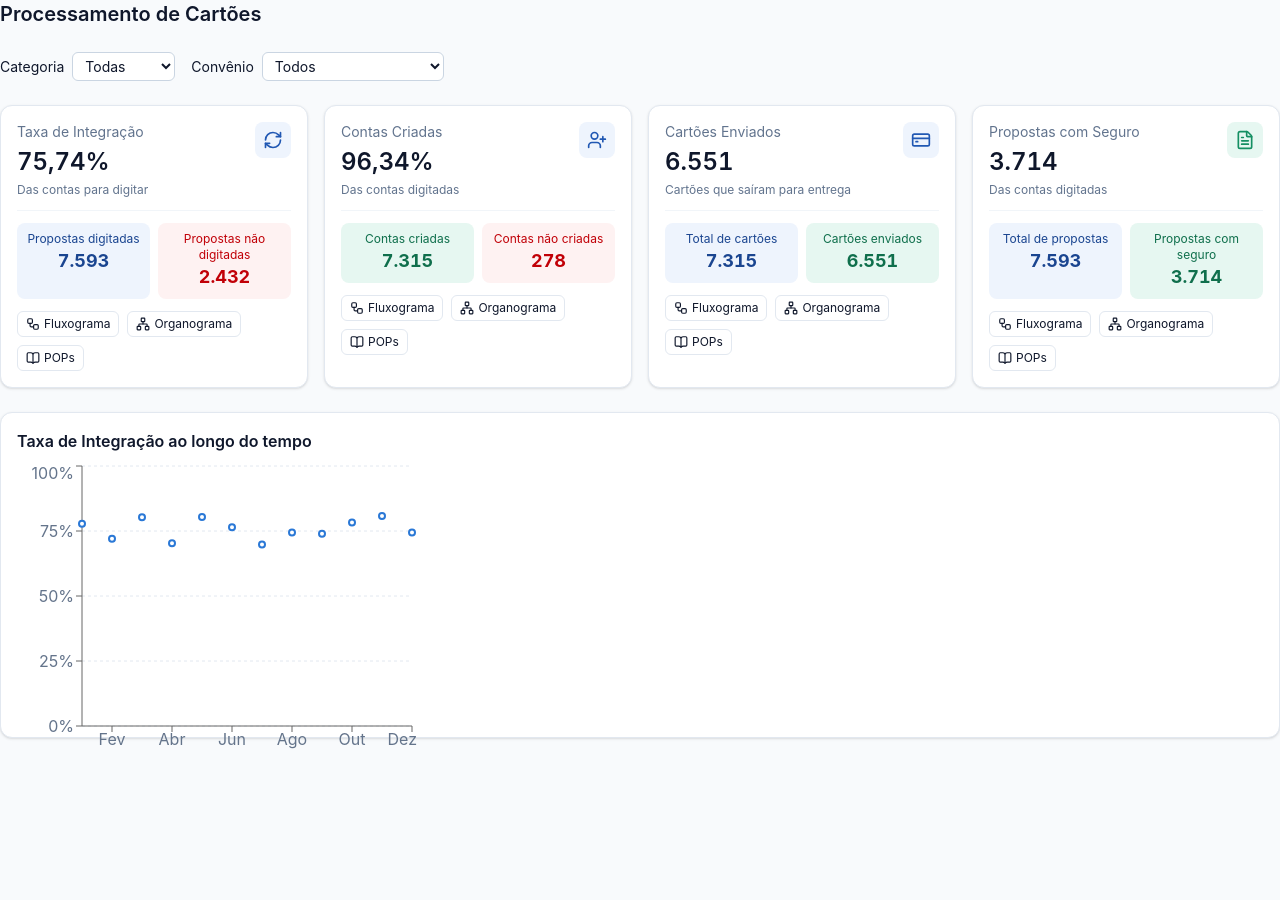
it: CardProcessingPage › opens the KPI details in a dialog and closes it with Escape
The image size is (1280, 900).
Click the button "Cartões Enviados 6.551 Cartões que saíram para entrega".
click(723, 132)  # box [665,122,939,198]
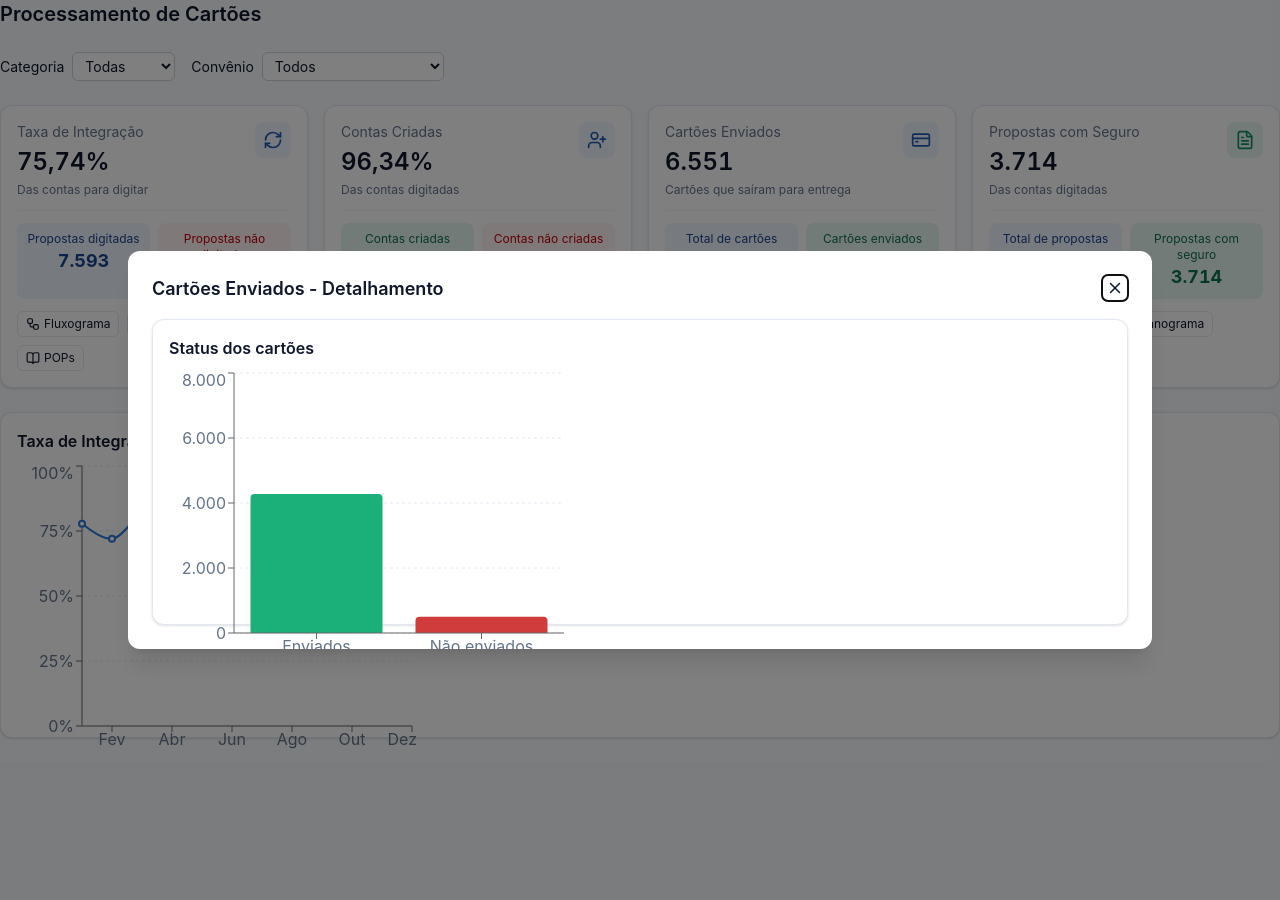
Now the heading "Status dos cartões" is shown, box [169,338,314,358]
Press Escape
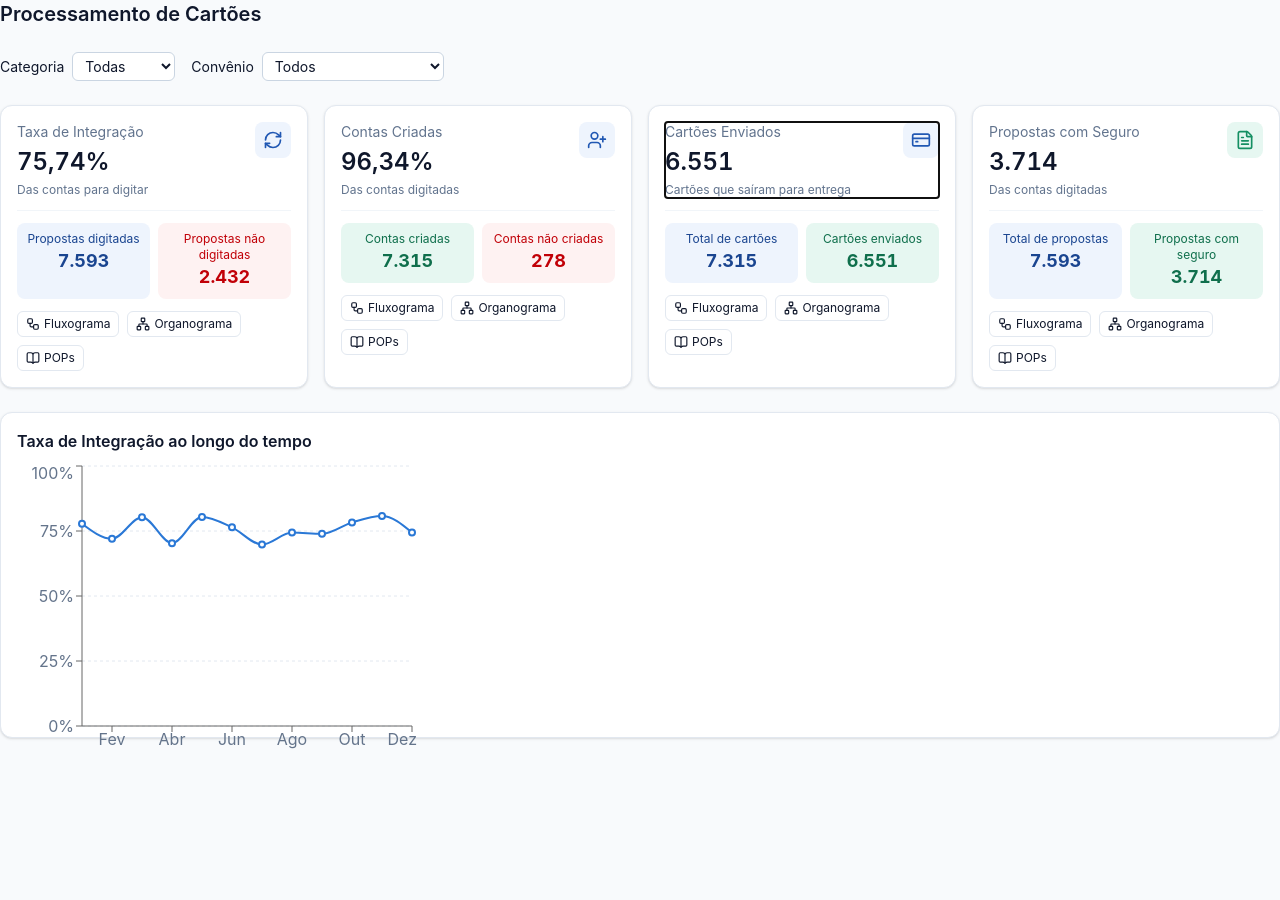
Now the dialog is gone
